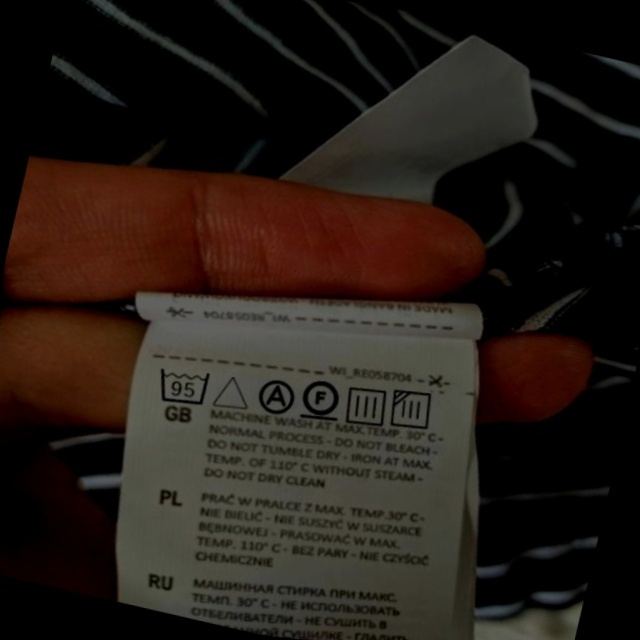95C: (149, 355, 220, 417)
bleach: (206, 363, 257, 419)
drip_dry: (336, 375, 397, 435)
drip_dry_in_shade: (382, 379, 445, 441)
dry_clean: (249, 370, 302, 422)
dry_clean_petrol_only: (293, 368, 350, 429)
